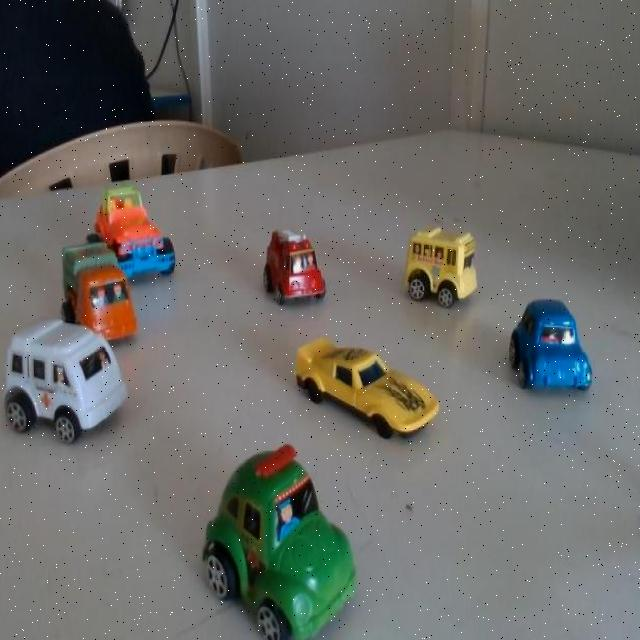car: (199, 445, 368, 640), (3, 297, 141, 468), (302, 328, 433, 450), (397, 222, 483, 322), (103, 180, 183, 282), (253, 217, 327, 323), (67, 234, 133, 349), (518, 298, 592, 394)
